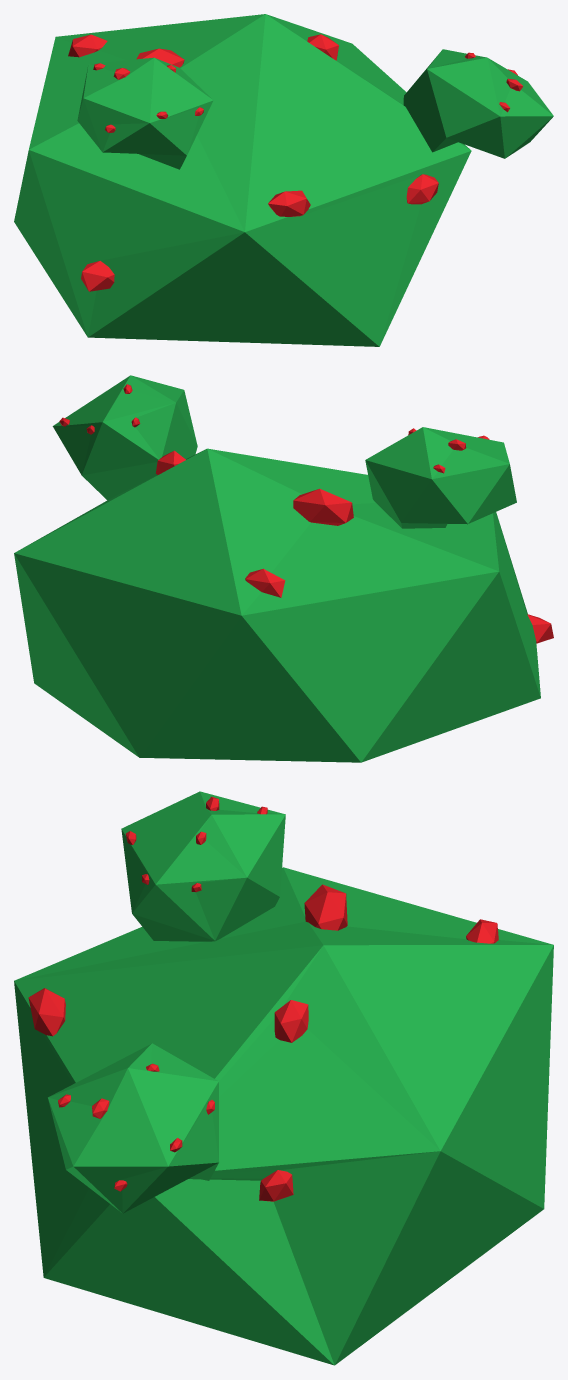
Rendered from BigBush.glb.
The picture shows the model from 3 angles, top to bottom: view 1: azimuth 30°, elevation 25°; view 2: azimuth 150°, elevation 25°; view 3: azimuth 270°, elevation 25°; orthographic projection. The views are drawn at different scales.
Parts seen in each view (by area): view 1: Icosphere.000; view 2: Icosphere.000; view 3: Icosphere.000.
Part boxes in pixels (x1,y1,x2,y2): Icosphere.000: (14, 14, 553, 346); Icosphere.000: (14, 375, 553, 762); Icosphere.000: (14, 791, 553, 1365).
Bounding box in the file's own units: 3.13 × 1.89 × 2.5.
1 material, 1 textured.
